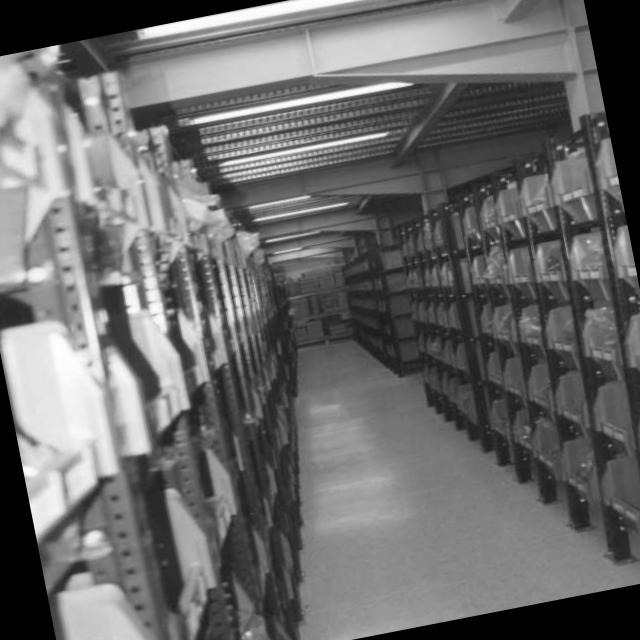ceiling beam: (48, 0, 598, 263)
floor -X: (296, 334, 640, 640)
merchadise: (275, 251, 348, 346)
shelves crop: (0, 49, 300, 640), (338, 98, 640, 571)
